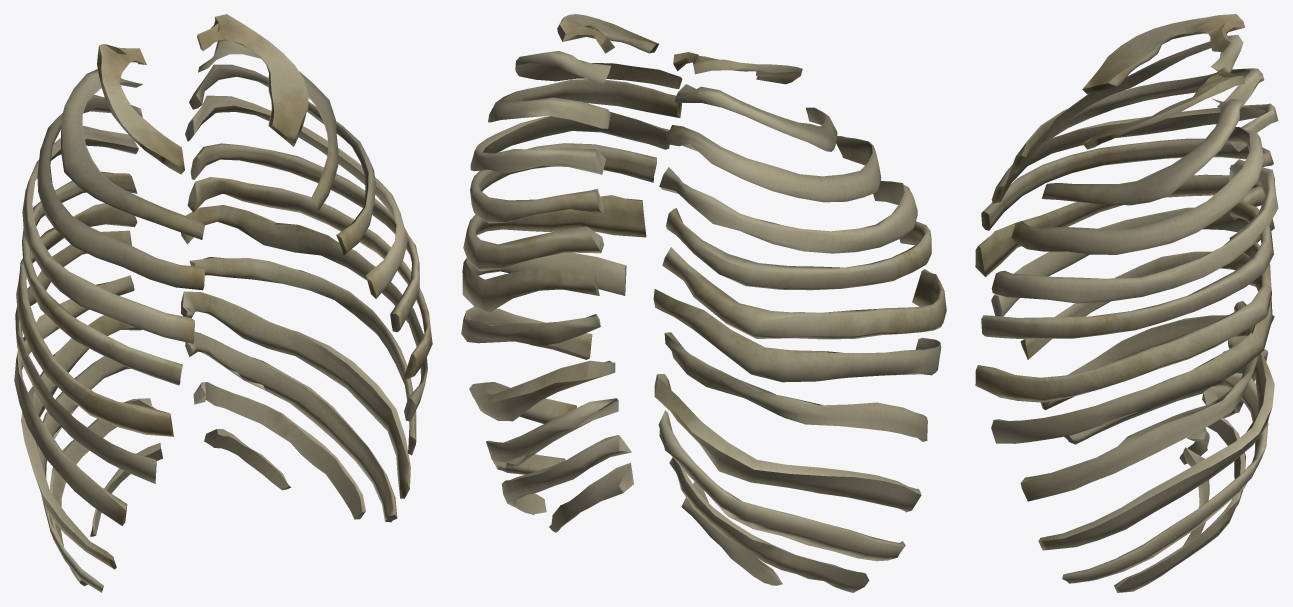
Rendered from 男性_骨骼系统_肋骨.fbx.
3 views of the same model, side by side, from view 1: azimuth 30°, elevation 25°; view 2: azimuth 150°, elevation 25°; view 3: azimuth 270°, elevation 25° (orthographic). The views are drawn at different scales.
Visible parts, largest first — view 1: 男性_骨骼系统_肋骨; view 2: 男性_骨骼系统_肋骨; view 3: 男性_骨骼系统_肋骨.
Boxes of the visible parts, <box> form: 男性_骨骼系统_肋骨: <box>14,14,432,592</box>; 男性_骨骼系统_肋骨: <box>461,14,946,592</box>; 男性_骨骼系统_肋骨: <box>975,14,1278,592</box>.
Bounding box in the file's own units: 29.17 × 36.52 × 20.87.
